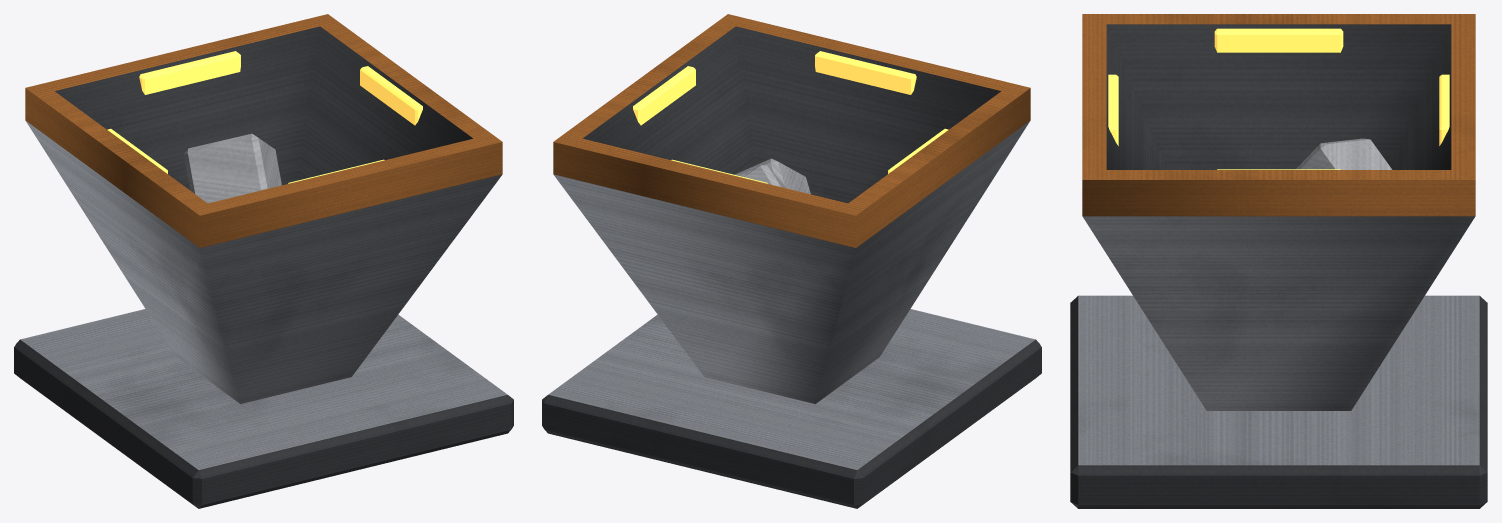
The model's file is R4X_SalvageOptimizer_LOD1.glb.
3 renders of one model, left to right at view 1: azimuth 30°, elevation 25°; view 2: azimuth 150°, elevation 25°; view 3: azimuth 270°, elevation 25°, orthographic. The views are drawn at different scales.
Visible parts, largest first — view 1: R4X_SalvageOptimizer_LOD1; view 2: R4X_SalvageOptimizer_LOD1; view 3: R4X_SalvageOptimizer_LOD1.
Boxes of the visible parts, <box> form: R4X_SalvageOptimizer_LOD1: <box>14,14,513,508</box>; R4X_SalvageOptimizer_LOD1: <box>542,14,1041,508</box>; R4X_SalvageOptimizer_LOD1: <box>1070,14,1487,508</box>.
Bounding box in the file's own units: 0.52 × 0.45 × 0.52.
Materials: 5 (4 with a texture image).
